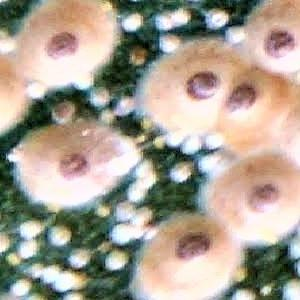Femea: (215, 168, 299, 243), (154, 222, 227, 297), (32, 136, 118, 198), (216, 80, 286, 147), (29, 18, 102, 82), (159, 59, 224, 121), (251, 0, 299, 75)
Linfa: (168, 160, 194, 187), (14, 216, 46, 237), (64, 248, 93, 269), (104, 246, 125, 274), (222, 22, 246, 46), (10, 277, 36, 299), (128, 208, 149, 233), (109, 222, 133, 243), (176, 134, 202, 153), (119, 12, 145, 31), (134, 164, 155, 187), (156, 34, 178, 55), (54, 273, 78, 292), (163, 123, 182, 147), (48, 225, 69, 246), (205, 7, 227, 26), (38, 264, 61, 282), (16, 237, 37, 256), (154, 9, 171, 32)
